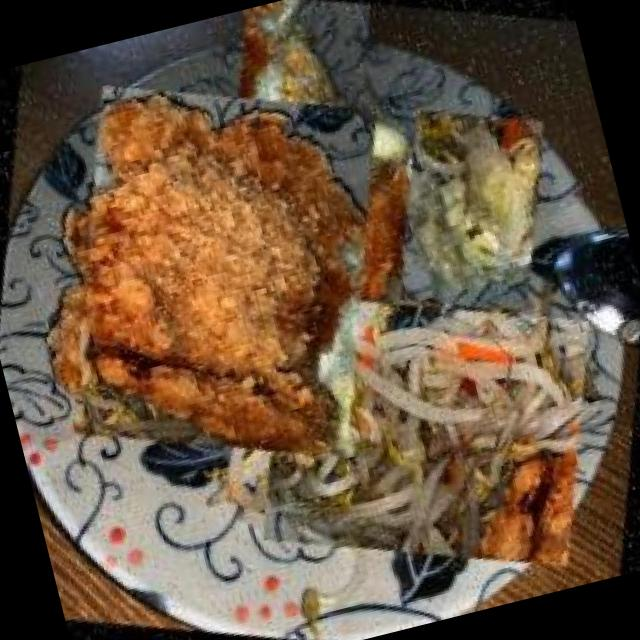chinese_cabbage: (356, 78, 588, 340)
fried_chicken: (0, 31, 465, 513)
fried_eggs: (163, 0, 434, 250)
mung_bean_sprouts: (204, 222, 640, 635)
